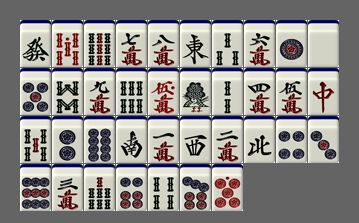0m: (148, 68, 179, 115)
0p: (212, 164, 243, 211)
0s: (52, 20, 83, 67)
1m: (148, 116, 179, 163)
1p: (276, 20, 307, 67)
1s: (180, 68, 211, 115)
1z: (180, 20, 211, 67)
2m: (212, 116, 243, 163)
2p: (52, 116, 83, 163)
2s: (212, 68, 243, 115)
2z: (116, 116, 147, 163)
3m: (52, 164, 83, 211)
3p: (308, 116, 339, 163)
3s: (212, 20, 243, 67)
3z: (180, 116, 211, 163)
4m: (244, 68, 275, 115)
4p: (276, 116, 307, 163)
4s: (148, 164, 179, 211)
4z: (244, 116, 275, 163)
5m: (276, 68, 307, 115)
5p: (20, 68, 51, 115)
5s: (20, 116, 51, 163)
5z: (308, 20, 339, 67)
6m: (244, 20, 275, 67)
6p: (116, 164, 147, 211)
6s: (116, 68, 147, 115)
6z: (20, 20, 51, 67)
7m: (116, 20, 147, 67)
7p: (180, 164, 211, 211)
7s: (84, 164, 115, 211)
7z: (308, 68, 339, 115)
8m: (148, 20, 179, 67)
8p: (84, 116, 115, 163)
8s: (52, 68, 83, 115)
9m: (84, 68, 115, 115)
9p: (20, 164, 51, 211)
9s: (84, 20, 115, 67)
